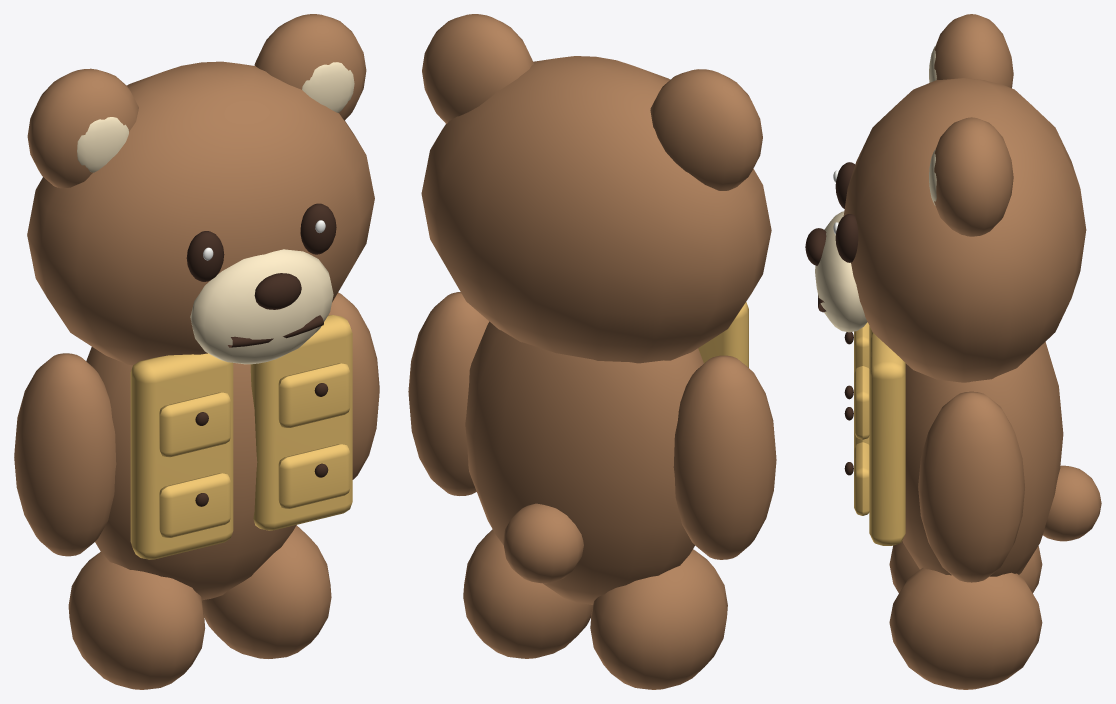
The model's file is nuan-nuan.glb.
3 renders of one model, left to right at view 1: azimuth 30°, elevation 25°; view 2: azimuth 150°, elevation 25°; view 3: azimuth 270°, elevation 25°, orthographic. The views are drawn at different scales.
Visible parts, largest first — view 1: Head.002, Arm_L.002, Body.002, Foot_L.002, VestPanel, VestPanel.001, Muzzle.001, Foot_R.002, BearEar, BearEar.001, Arm_R.002, VestPocket.002 (+9 smaller); view 2: Head.002, Body.002, Arm_L.002, Foot_L.002, Arm_R.002, BearEar, Foot_R.002, BearEar.001, BearTail, VestPanel; view 3: Head.002, Arm_R.002, Foot_R.002, Body.002, BearEar.001, VestPanel.001, BearEar, Muzzle.001, BearTail, Foot_L.002, VestPocket.002, VestPocket.003 (+4 smaller).
Part boxes in pixels (x1,y1,x2,y2): Head.002: (27,61,374,365); Arm_L.002: (14,353,116,556); Body.002: (86,347,296,600); Foot_L.002: (68,552,205,689); VestPanel: (130,353,233,559); VestPanel.001: (250,315,352,530); Muzzle.001: (190,249,333,364); Foot_R.002: (202,525,331,658); BearEar: (27,68,138,188); BearEar.001: (254,14,366,120); Arm_R.002: (328,292,379,479); VestPocket.002: (278,444,350,508); Head.002: (421,56,771,363); Body.002: (465,321,703,604); Arm_L.002: (673,355,776,559); Foot_L.002: (590,549,727,689); Arm_R.002: (408,292,489,495); BearEar: (650,69,762,190); Foot_R.002: (463,529,592,658); BearEar.001: (422,14,533,123); BearTail: (503,503,583,583); VestPanel: (698,302,748,367); Head.002: (843,78,1086,382); Arm_R.002: (918,391,1024,582); Foot_R.002: (889,567,1042,689); Body.002: (902,342,1063,576); BearEar.001: (934,117,1013,236); VestPanel.001: (869,333,905,545); BearEar: (934,14,1013,88); Muzzle.001: (815,211,867,332); BearTail: (1043,465,1101,541); Foot_L.002: (889,541,1042,593); VestPocket.002: (854,442,869,515); VestPocket.003: (854,365,869,439).
Size of the model in its own units: 1 by 1.69 by 0.775.
